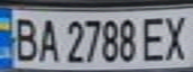2: (60, 16, 84, 64)
7: (81, 16, 103, 64)
8: (118, 15, 142, 63), (100, 16, 121, 63)
A: (36, 15, 60, 63)
B: (9, 14, 39, 62)
E: (139, 12, 172, 62)
X: (160, 11, 193, 62)
